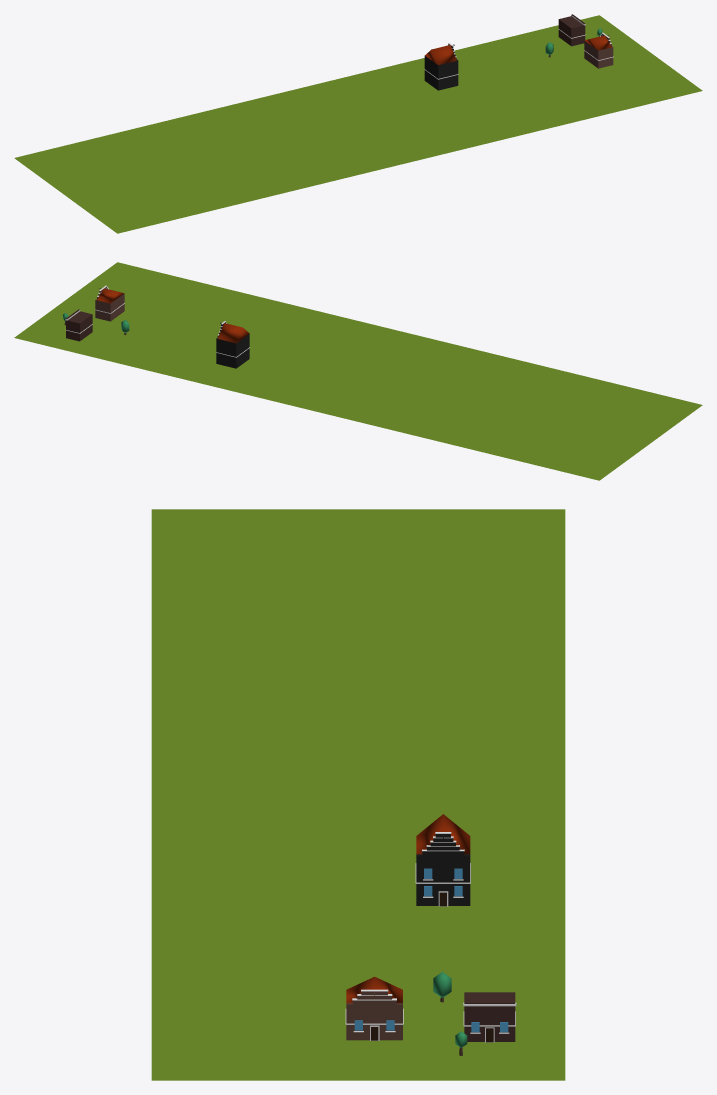
The model's file is city_left2.glb.
3 renders of one model, top to bottom at view 1: azimuth 30°, elevation 25°; view 2: azimuth 150°, elevation 25°; view 3: azimuth 270°, elevation 25°, orthographic. The views are drawn at different scales.
Bounding box in the file's own units: 98 × 5.9 × 30.
